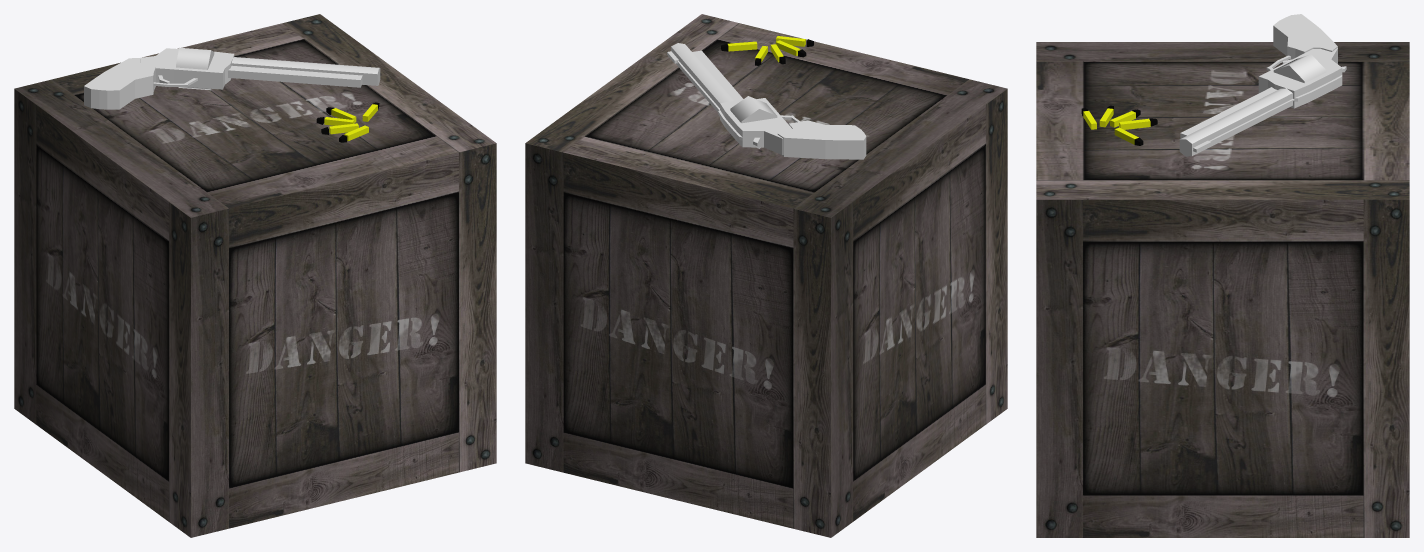
Rendered from MUNICION.FBX.
The picture shows the model from 3 angles, left to right: view 1: azimuth 30°, elevation 25°; view 2: azimuth 150°, elevation 25°; view 3: azimuth 270°, elevation 25°; orthographic projection. The views are drawn at different scales.
Visible parts, largest first — view 1: Box001, PISTOLA_CUBO; view 2: Box001, PISTOLA_CUBO; view 3: Box001, PISTOLA_CUBO.
Part boxes in pixels (box(x1,y1,x2,y2)): Box001: box(14, 14, 496, 537); PISTOLA_CUBO: box(84, 47, 380, 109); Box001: box(525, 14, 1007, 537); PISTOLA_CUBO: box(667, 43, 866, 159); Box001: box(1036, 42, 1409, 537); PISTOLA_CUBO: box(1179, 14, 1346, 156).
Size of the model in its own units: 3.94 by 4.5 by 3.94.
